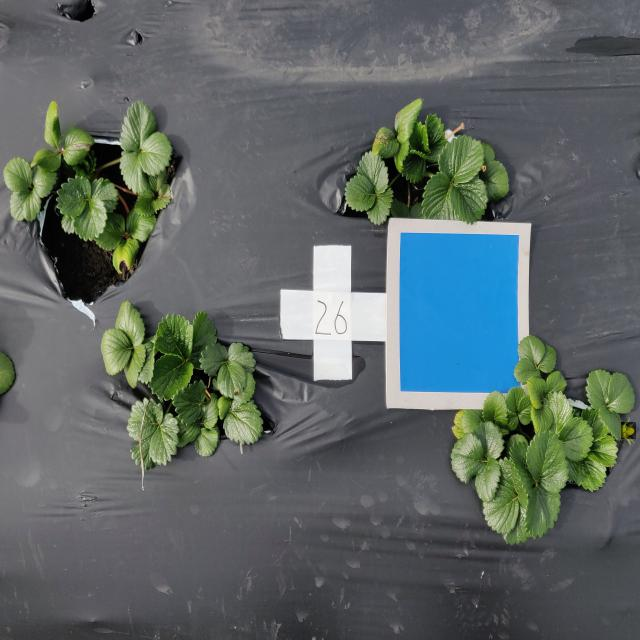Green Strawberry: (622, 422, 638, 440)
